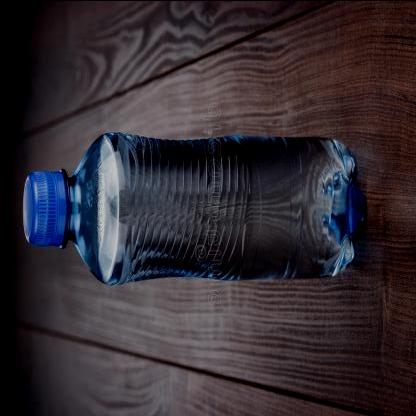bottle: (0, 119, 344, 295)
